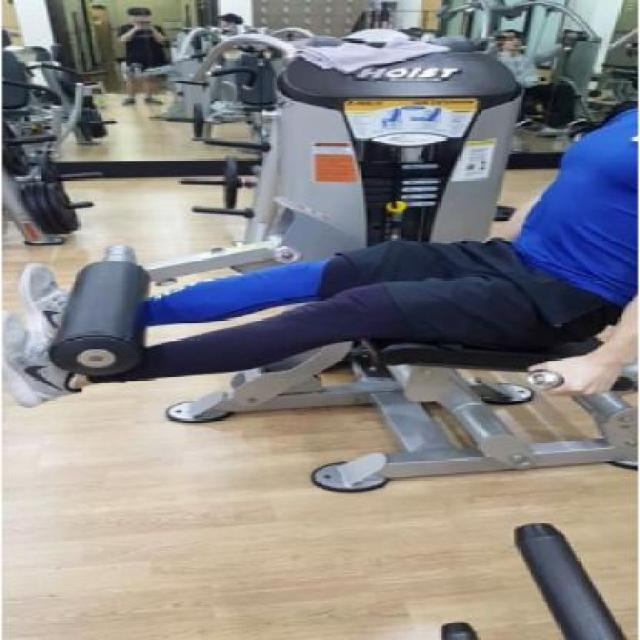leg extension: (0, 32, 640, 502)
